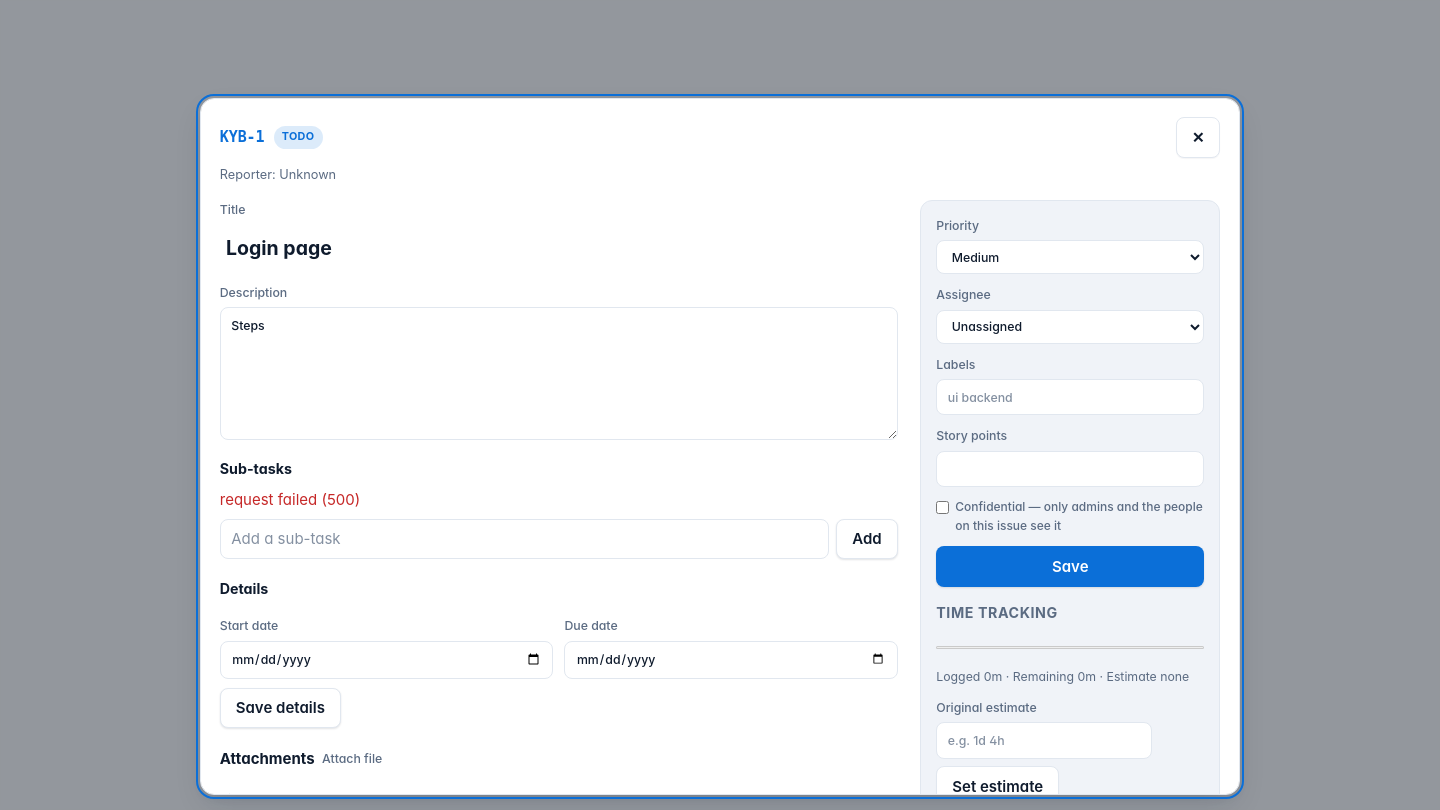
Scenario: IssuePanel (KYB-S17) › AC1+AC2: edits fields and saves with the loaded version
The image size is (1440, 810).
Replace the text in the field labelled "Title" with "Login v2" at (559, 248), box x1=220 y1=224 x2=898 y2=271
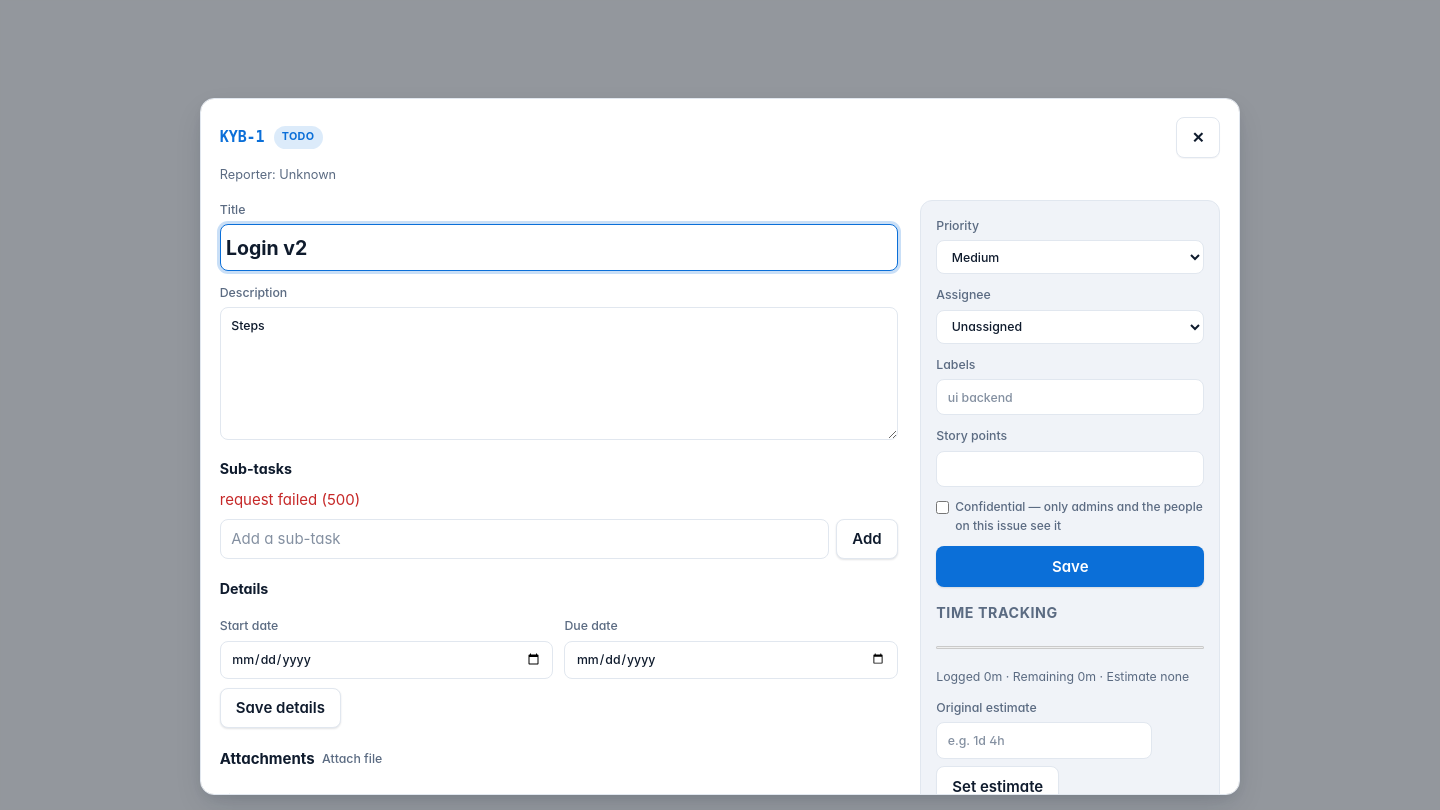
Select "high" in the dropdown labelled "Priority" at (1070, 257), box x1=936 y1=240 x2=1204 y2=274
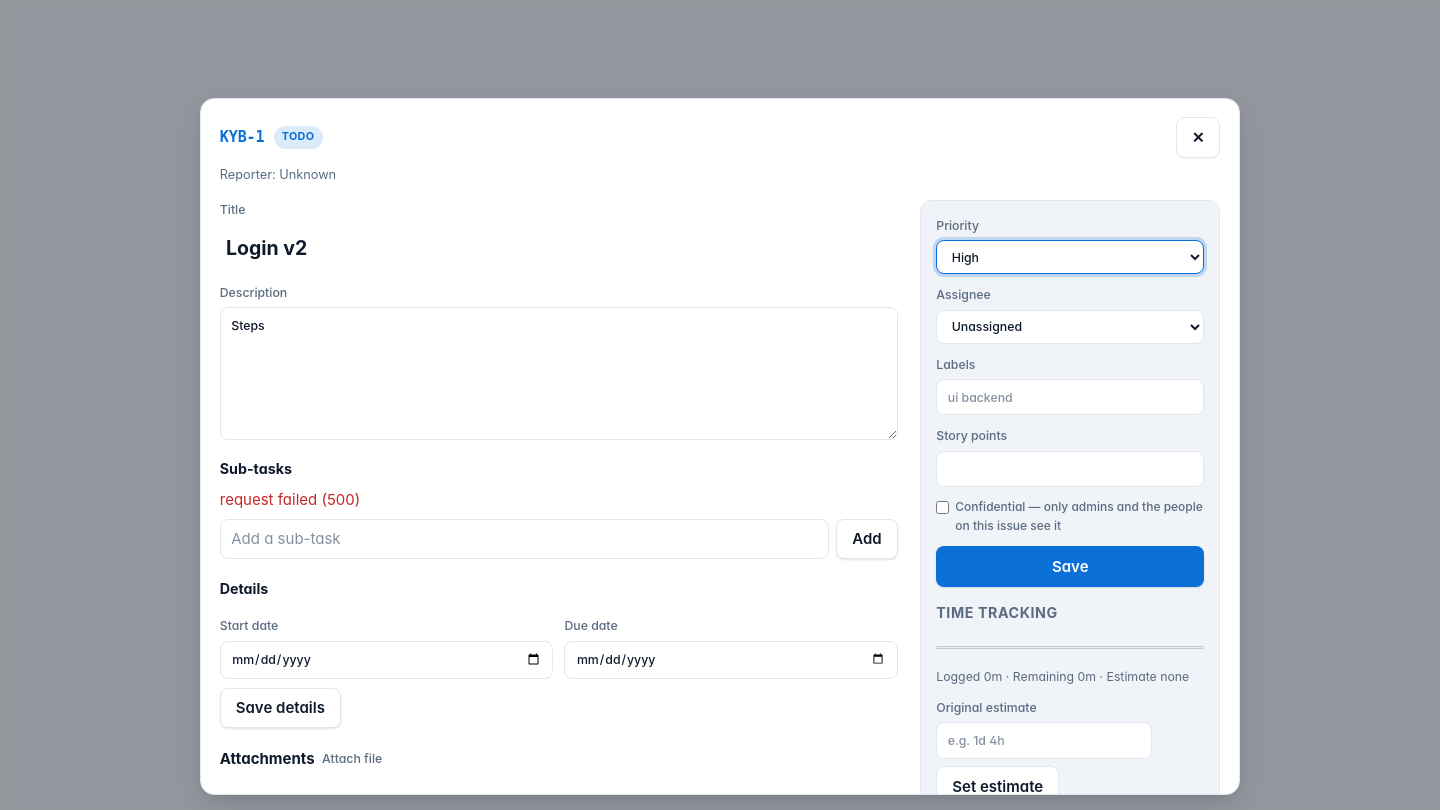
Select "Bob" in the dropdown labelled "Assignee" at (1070, 327), box x1=936 y1=310 x2=1204 y2=344
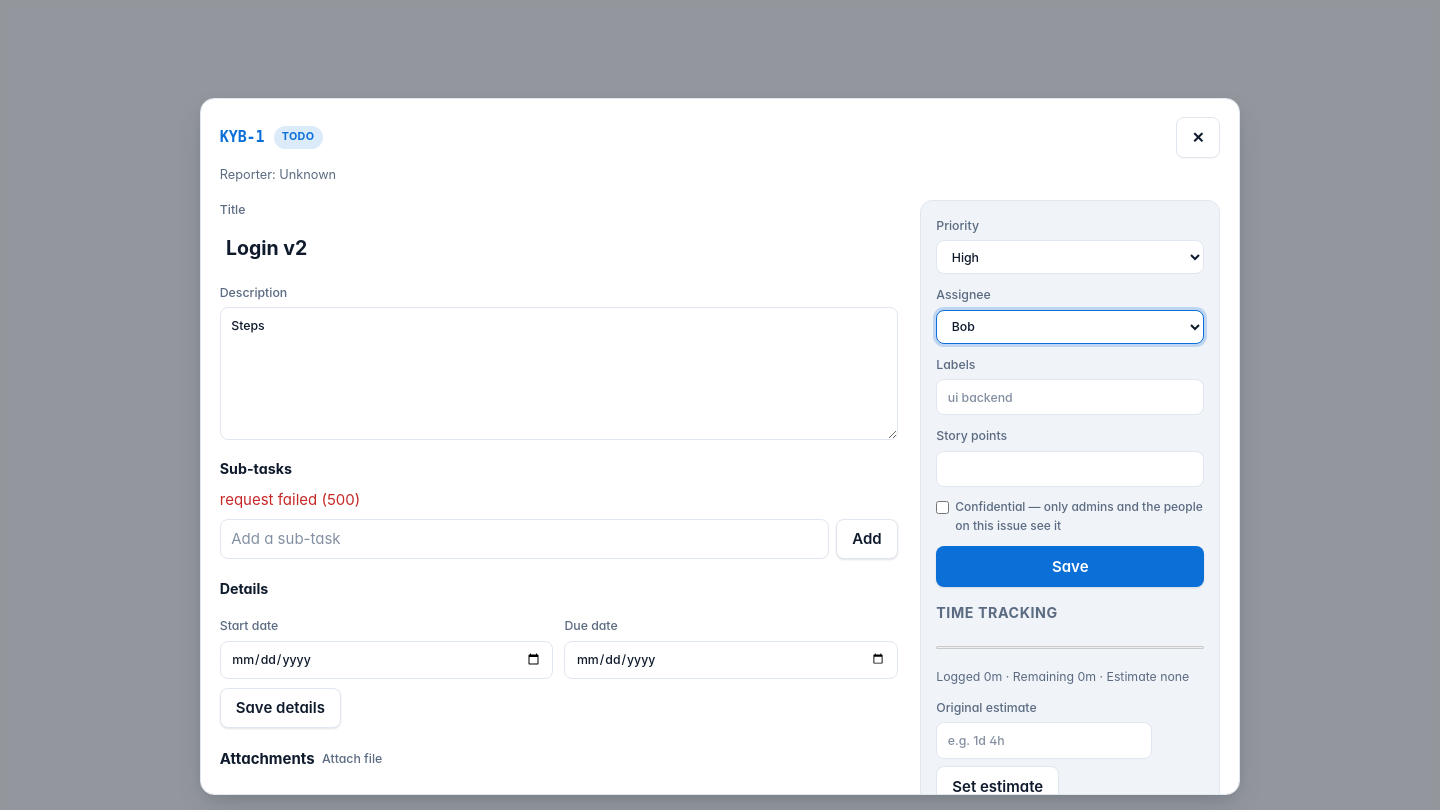
Click the checkbox labelled "Confidential" at (943, 508), box x1=936 y1=501 x2=949 y2=514
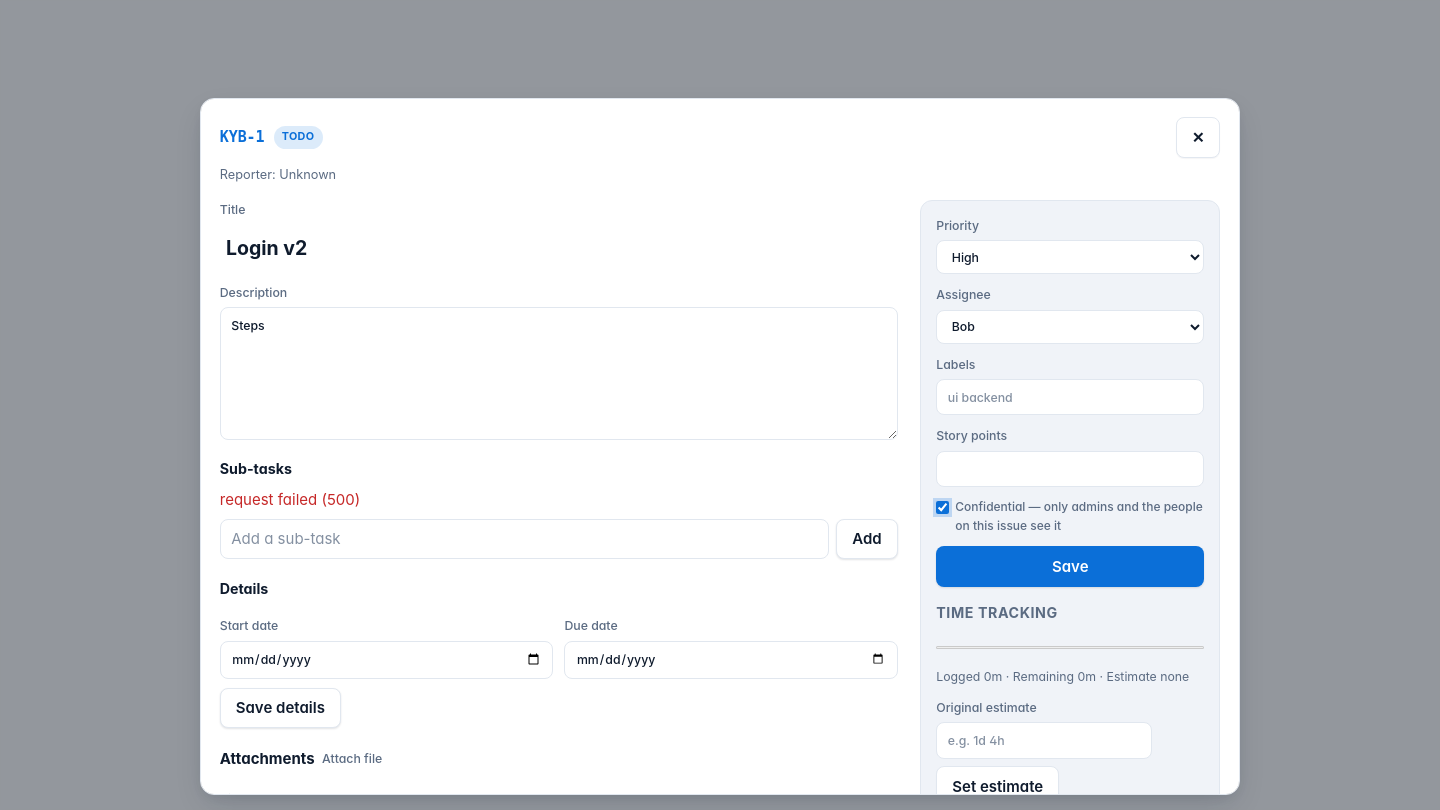
Click the button "Save" at (1070, 567), box x1=936 y1=546 x2=1204 y2=587
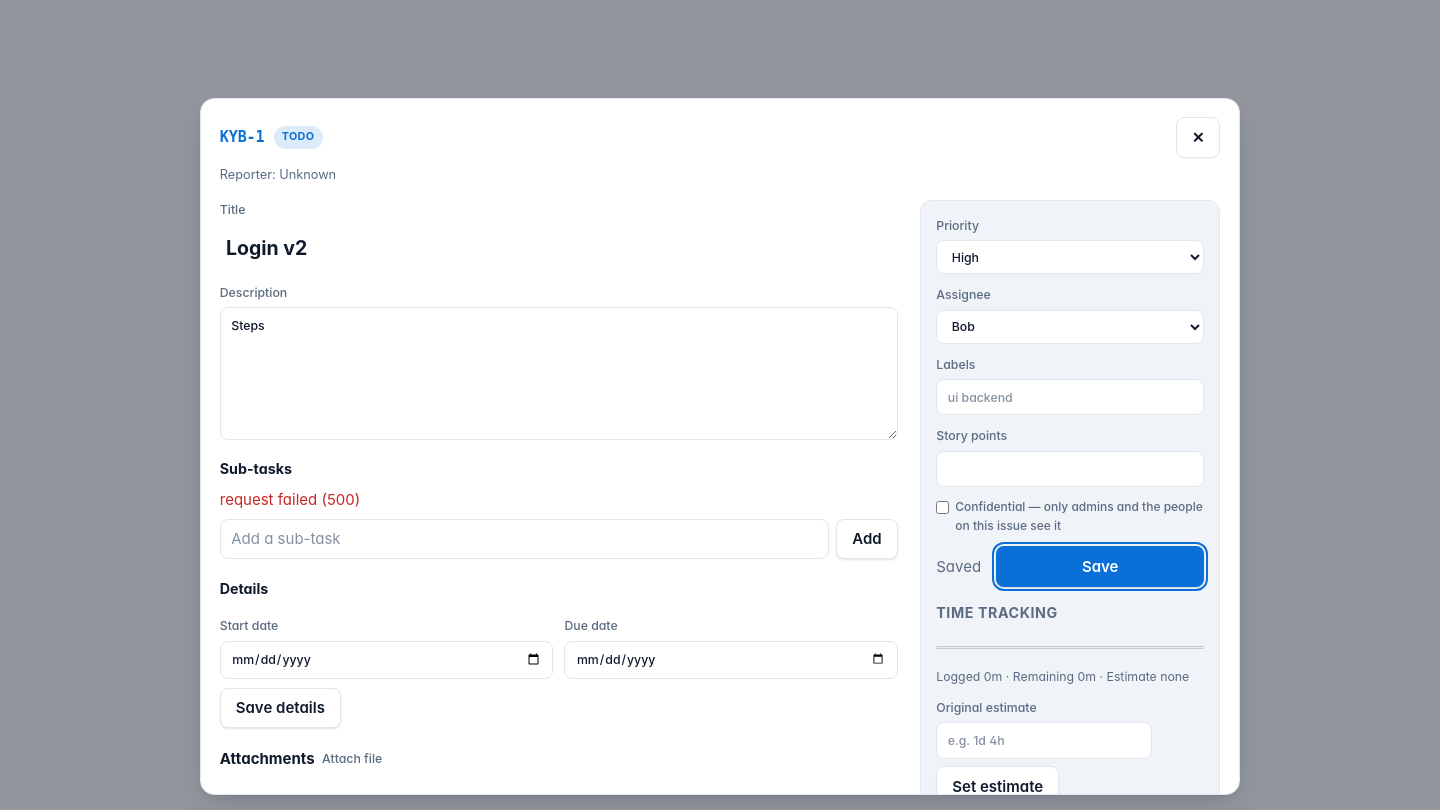
expect the text "Saved" is shown: met, box x1=936 y1=555 x2=981 y2=578
